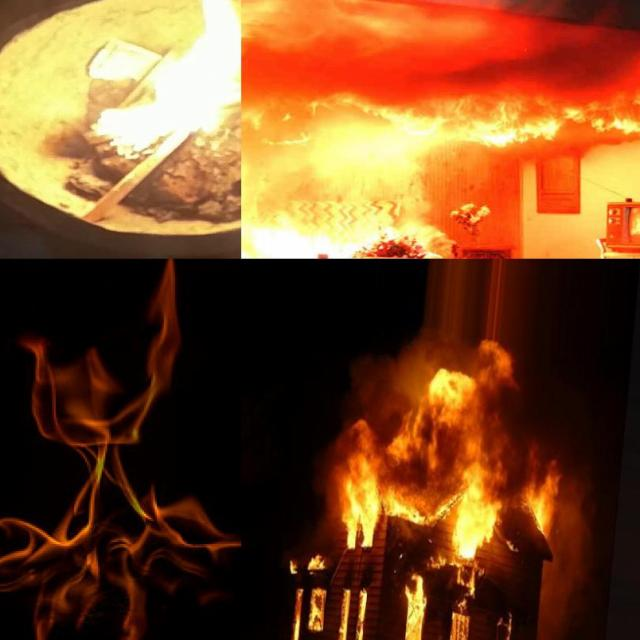fire: (0, 264, 241, 640), (340, 350, 520, 564), (242, 135, 454, 259), (70, 0, 241, 141), (241, 82, 640, 134), (524, 451, 562, 546), (401, 580, 425, 640), (305, 586, 333, 636), (339, 584, 364, 640), (282, 552, 328, 574), (288, 590, 304, 640), (439, 618, 464, 640)
smoke: (477, 0, 640, 38)
